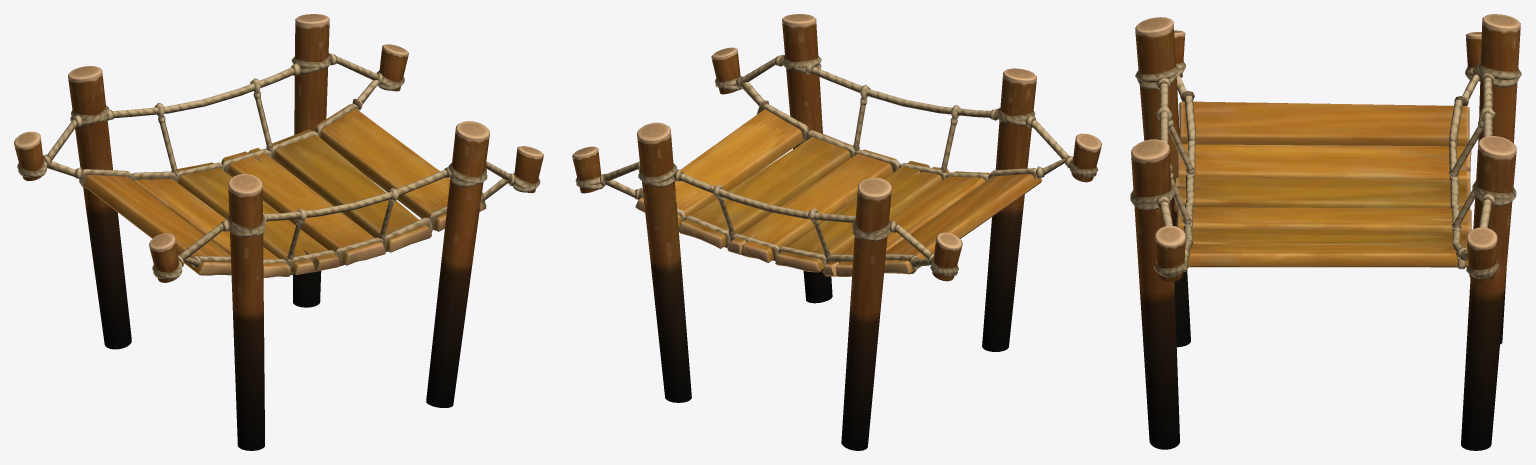
File: bridge-suspension.glb
3 views of the same model, side by side, from view 1: azimuth 30°, elevation 25°; view 2: azimuth 150°, elevation 25°; view 3: azimuth 270°, elevation 25° (orthographic). The views are drawn at different scales.
Size of the model in its own units: 36.82 by 24.68 by 28.02.
1 material, 1 textured.
